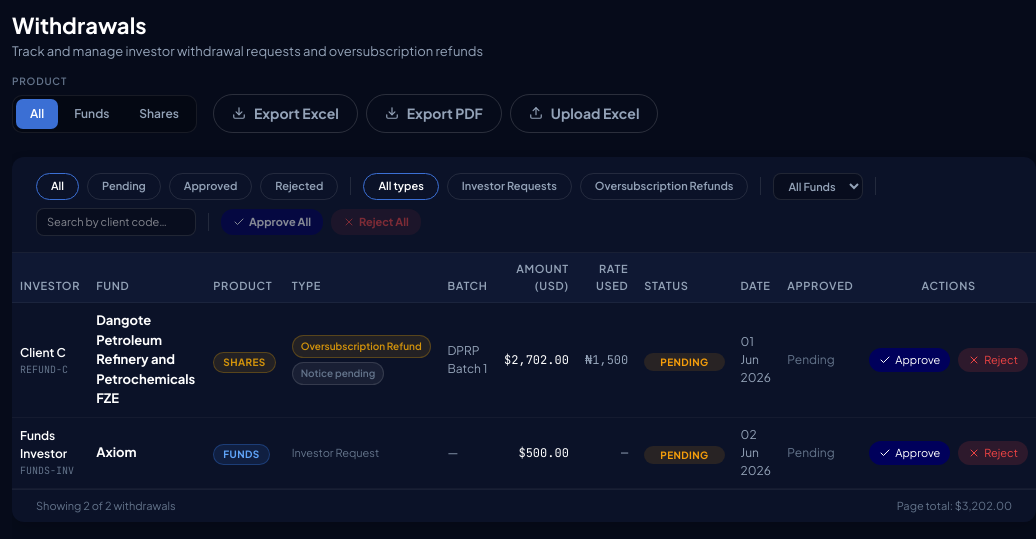
Test: WithdrawalListPage — filters (Task 11) › Product = Shares requests product=SHARES and shows only the refund
The image size is (1036, 539).
Expected: the text "REFUND-C" is shown, [20, 363, 68, 376]
Click the button "Shares".
click(159, 114)  # box [125, 99, 193, 129]
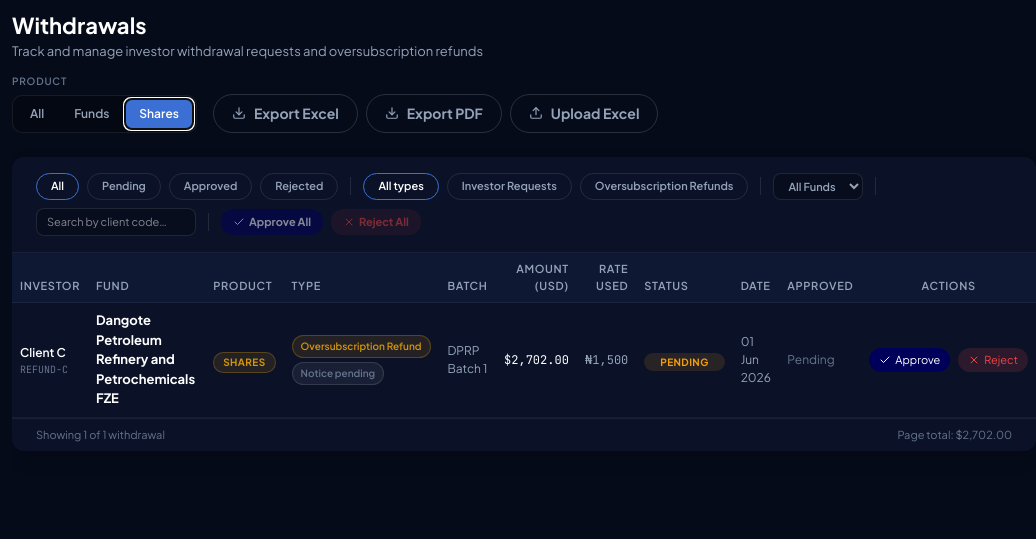
Now the text "FUNDS-INV" is gone
